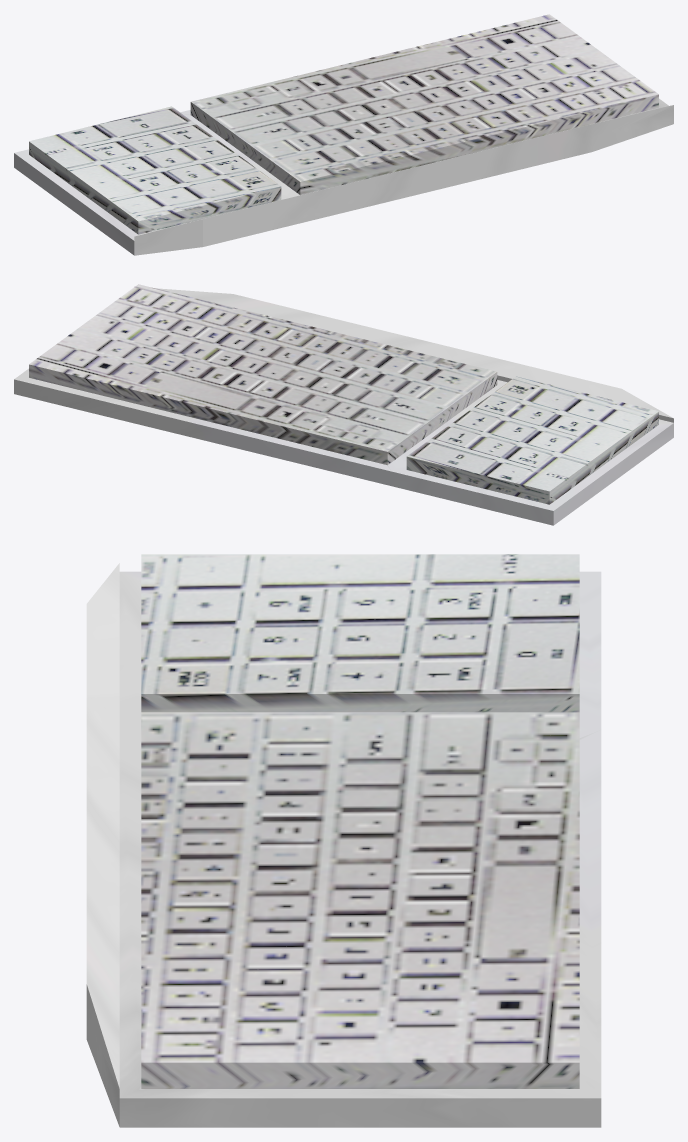
The model's file is keyboard.FBX.
3 views of the same model, one above another, from view 1: azimuth 30°, elevation 25°; view 2: azimuth 150°, elevation 25°; view 3: azimuth 270°, elevation 25° (orthographic). The views are drawn at different scales.
Parts seen in each view (by area): view 1: Object002, Object001, Box001; view 2: Object002, Box001, Object001; view 3: Object002, Object001, Box001.
Part boxes in pixels (x1=…): Object002: x1=190, y1=14, x2=658, y2=195; Object001: x1=29, y1=106, x2=281, y2=234; Box001: x1=14, y1=98, x2=673, y2=255; Object002: x1=29, y1=284, x2=497, y2=465; Box001: x1=14, y1=286, x2=673, y2=525; Object001: x1=406, y1=376, x2=658, y2=504; Object002: x1=141, y1=712, x2=579, y2=1088; Object001: x1=141, y1=554, x2=579, y2=712; Box001: x1=86, y1=563, x2=601, y2=1127.
Size of the model in its own units: 116 by 5.76 by 48.05.
Materials: 3 (3 with a texture image).
